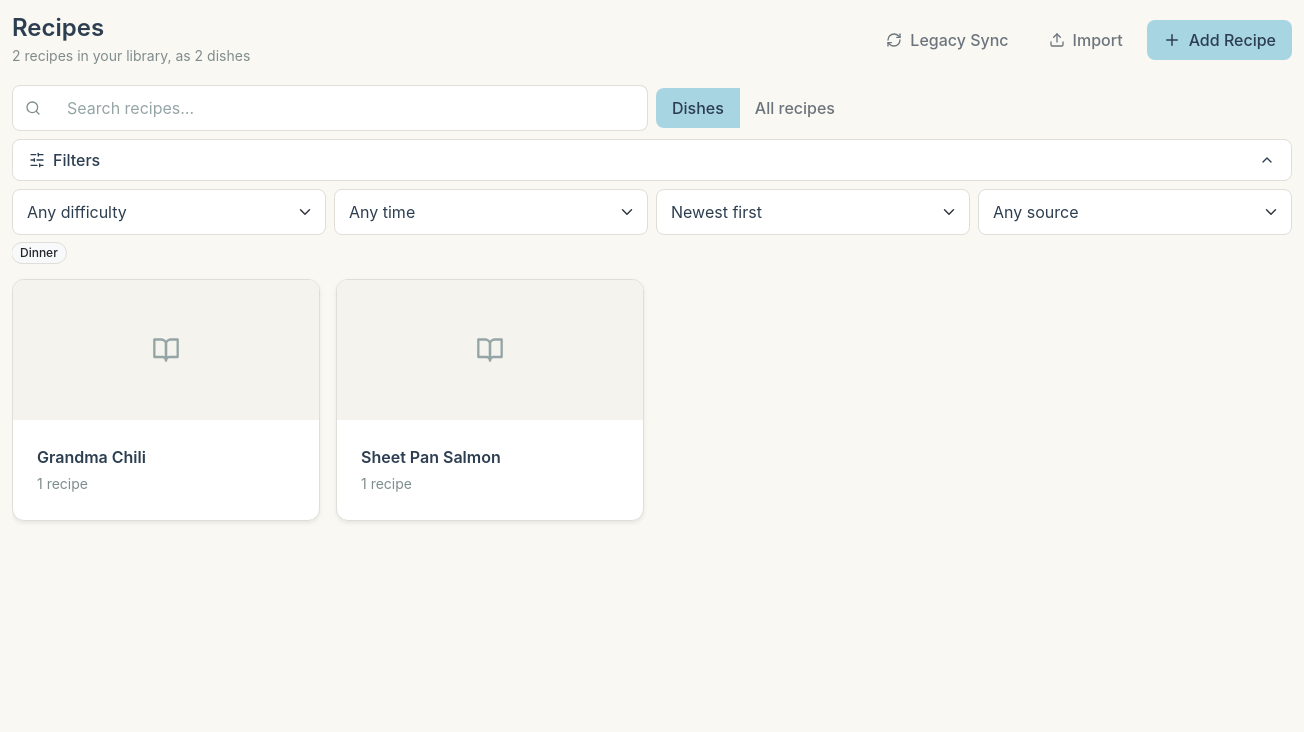
Test: Recipes page — browsing › opens a recipe into the full view, and puts it in the URL
Click the button "All recipes": {"x": 795, "y": 108} [739,88,851,128]
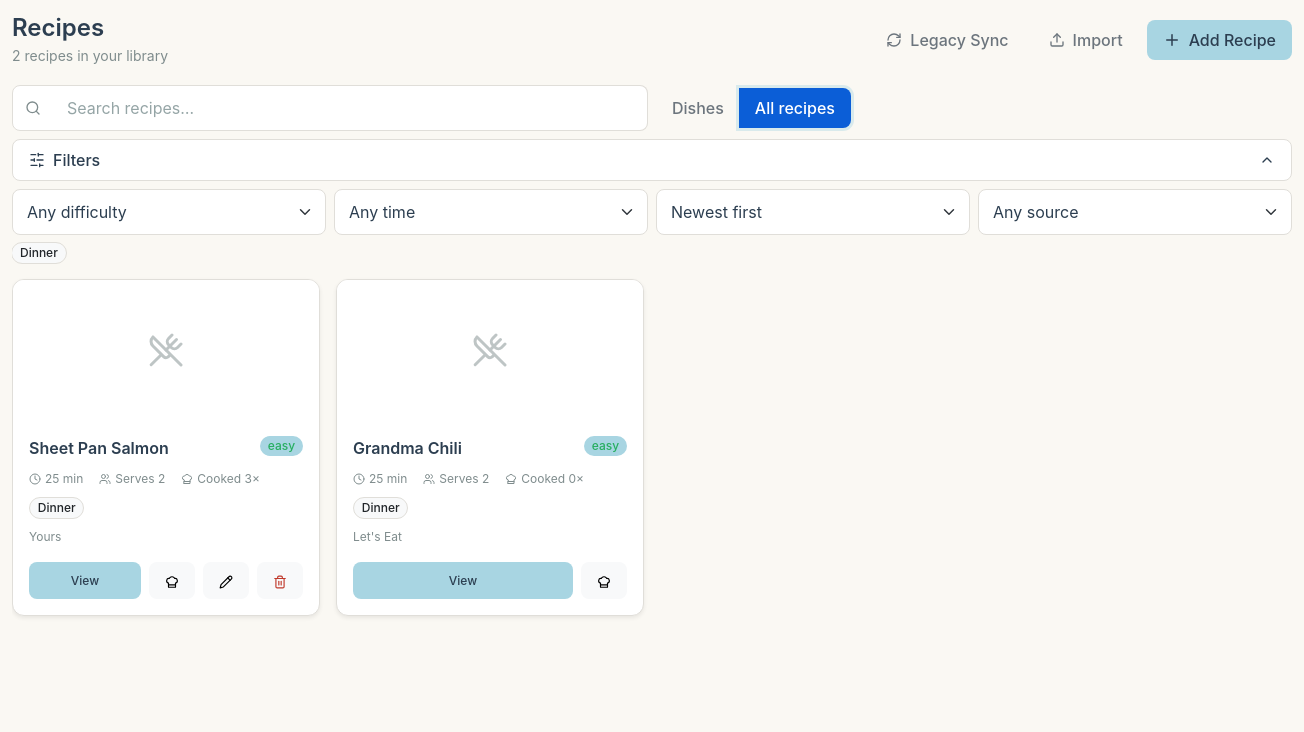
Click the button "View" below "Yours": {"x": 85, "y": 581} [29,562,141,599]
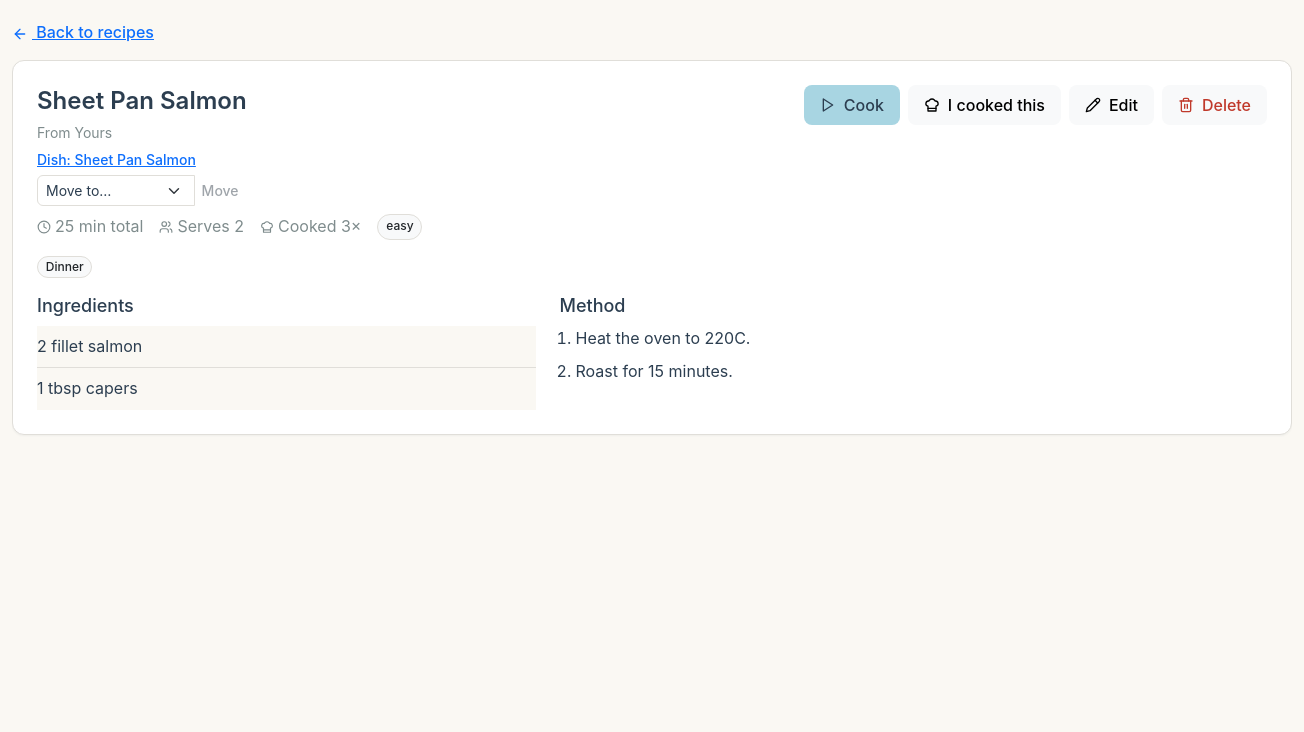
Now the heading "Sheet Pan Salmon" is shown, box [37,85,247,116]
Now the list item "Heat the oven to 220C." is shown, box [576,328,750,348]
